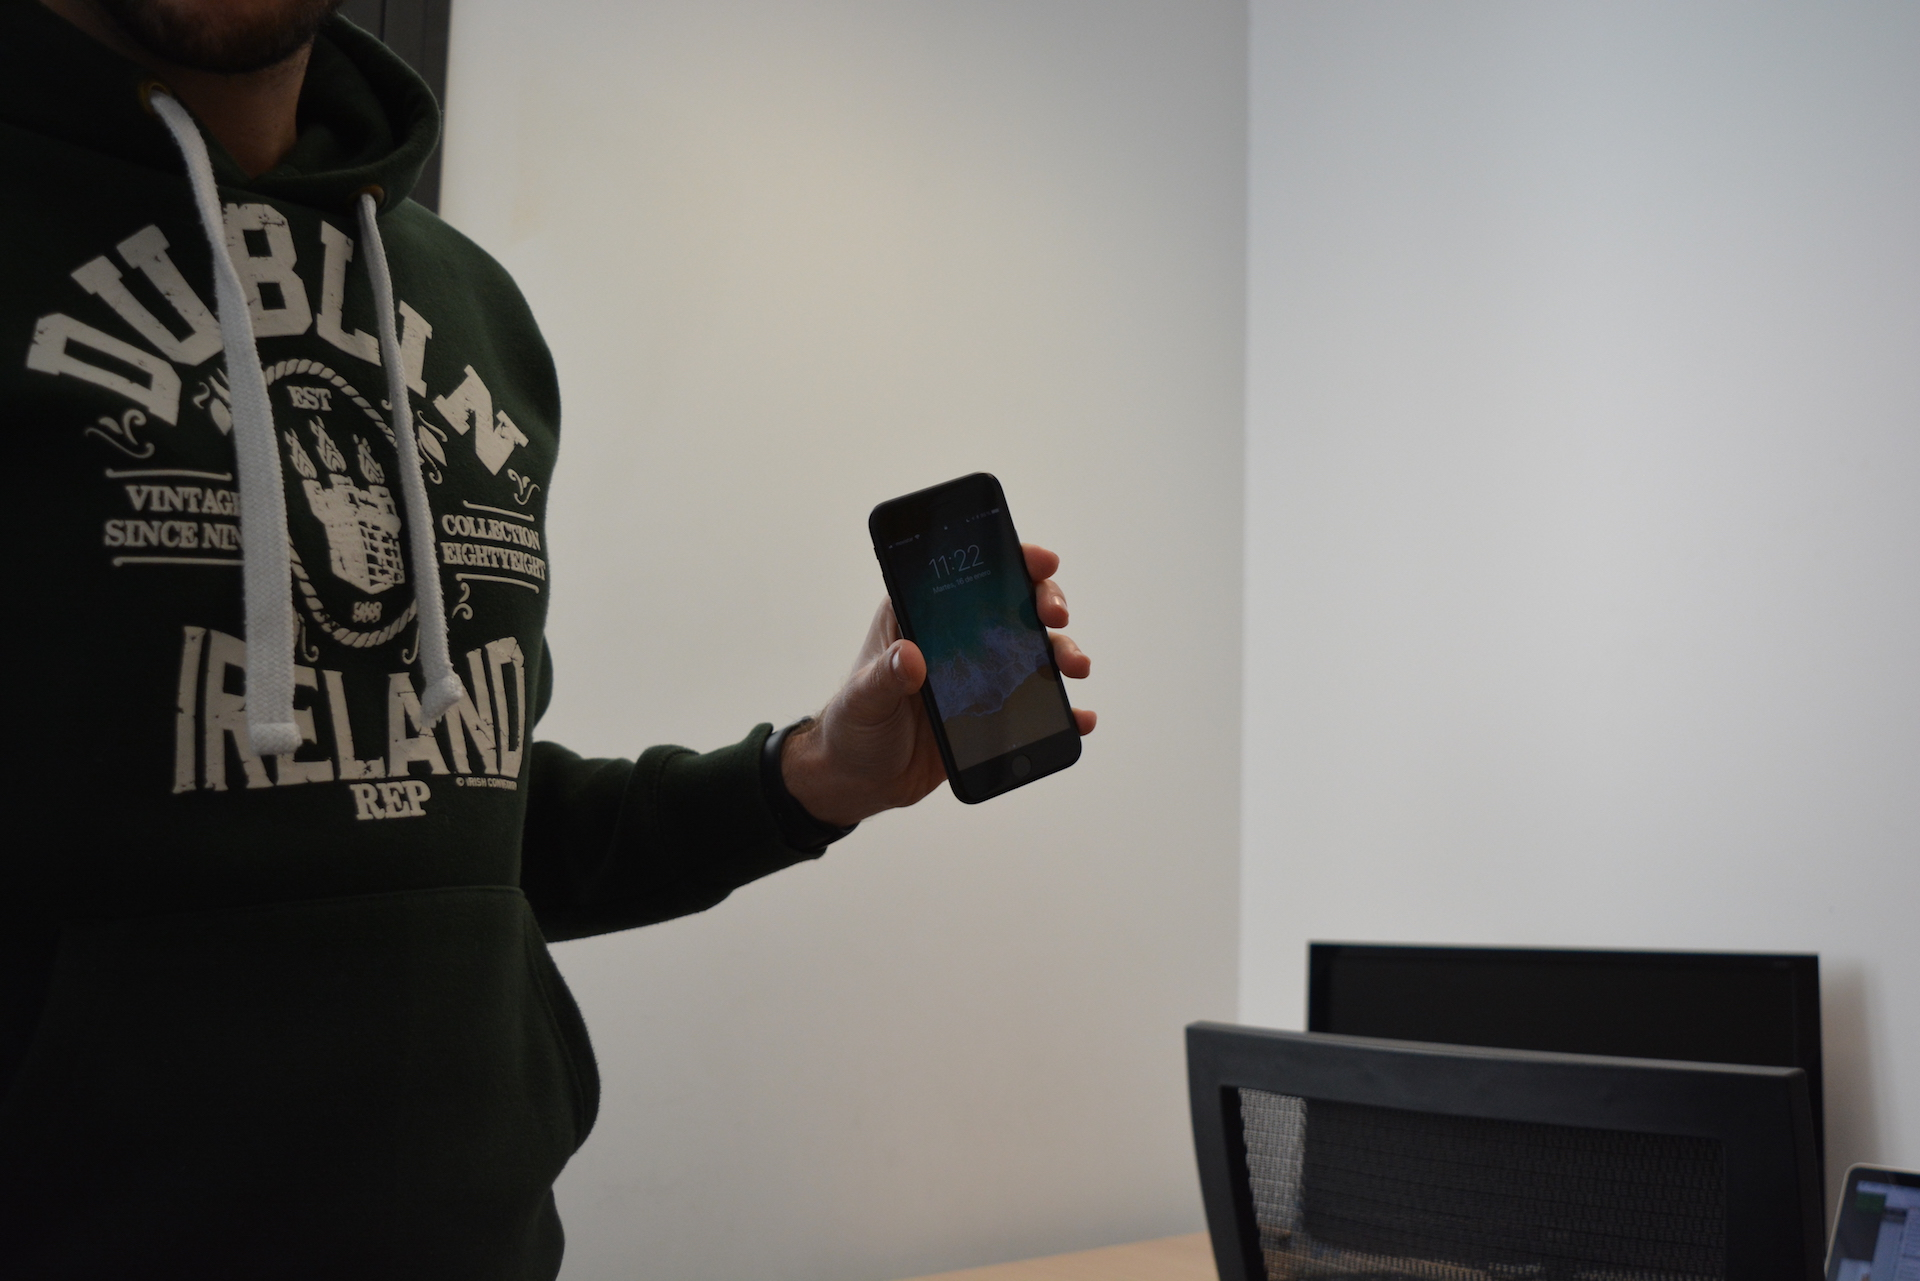smartphone: (866, 470, 1084, 806)
